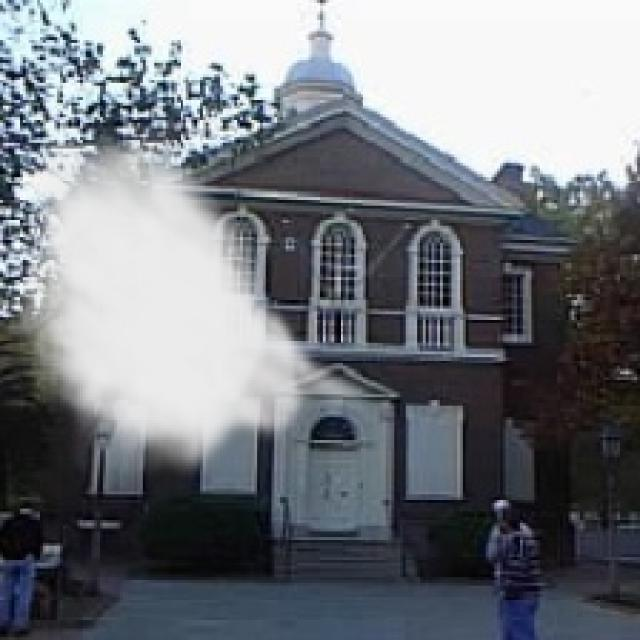Smoke: (6, 111, 377, 483)
